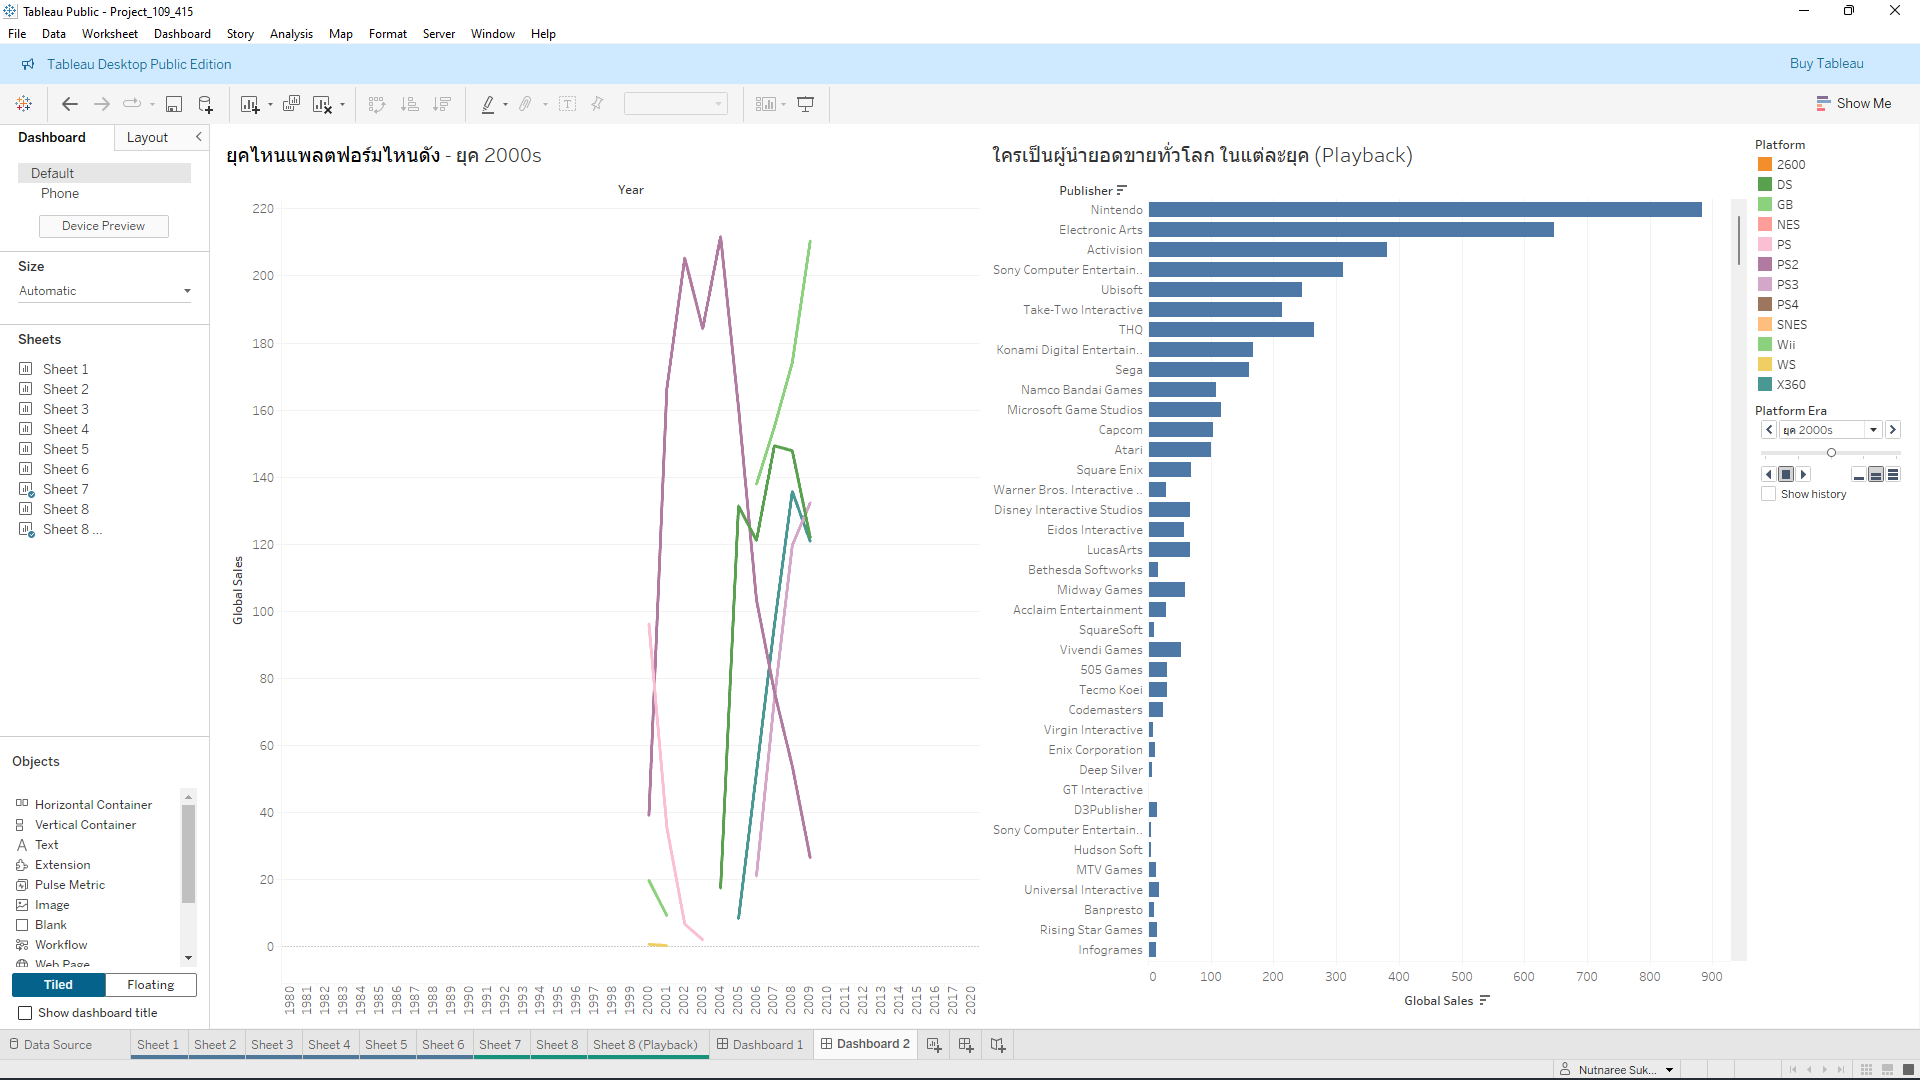

Layout of this report page (visuals, bound fields, positions):
{"tool":"tableau","page":{"name":"Dashboard 2","canvas":[1000,1000],"units":"permille","ordinal":1},"visuals":[{"type":"worksheet","title":"Sheet 7","mark":"Line","rows":["Global_Sales"],"cols":["Year"],"box":[4.7,8.8,448.5,982.3]},{"type":"worksheet","title":"Sheet 8 (Playback)","mark":"Automatic","rows":["Publisher"],"cols":["Global_Sales"],"box":[453.2,8.8,448.5,982.3]},{"type":"legend","title":"Sheet 7","param":"[federated.082d6w301ytw0d1fbyf6z1rj0ktg].[none:Platform:nk]","box":[901.7,8.8,93.6,294.2]},{"type":"currpage","title":"Sheet 7","box":[901.7,303.1,93.6,121.7]}]}

Visuals, with their boxes on the dashboard's canvas, which has no fixed pixel size, in thousandths of its width and height (x1, y1, x2, y2). These are canvas units, not pixel positions in the 1920x1080 screenshot, which may show the page scaled, cropped or inside an application window:
"Sheet 7" worksheet (Line marks): left=5, top=9, right=453, bottom=991
"Sheet 8 (Playback)" worksheet: left=453, top=9, right=902, bottom=991
"Sheet 7" legend: left=902, top=9, right=995, bottom=303
"Sheet 7" currpage: left=902, top=303, right=995, bottom=425
